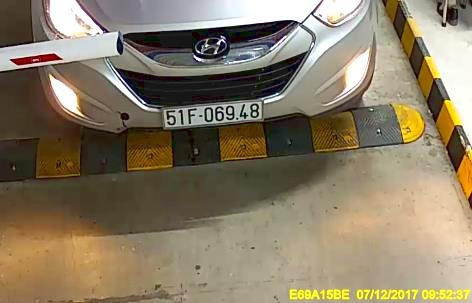plate: (157, 96, 267, 132)
